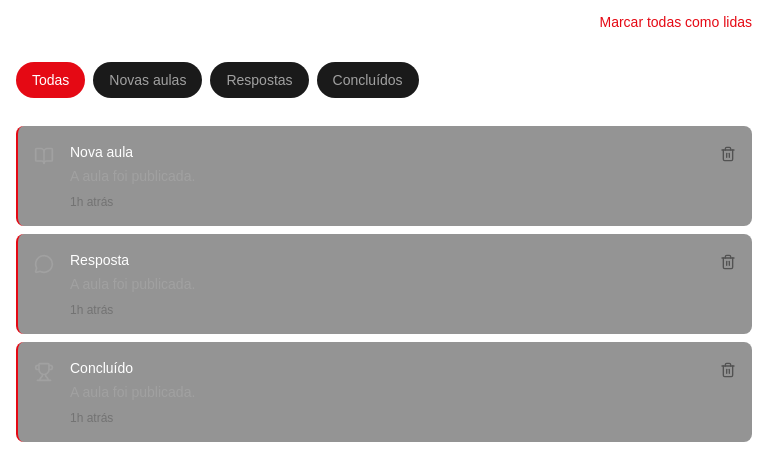
Test: NotificationsPage › filters notifications by type
Expected: the text "Nova aula" is shown, [70,144,133,160]
# Click "Respostas" filter
Step 1. Click the button "Respostas" → (260, 80), box [210,62,309,98]
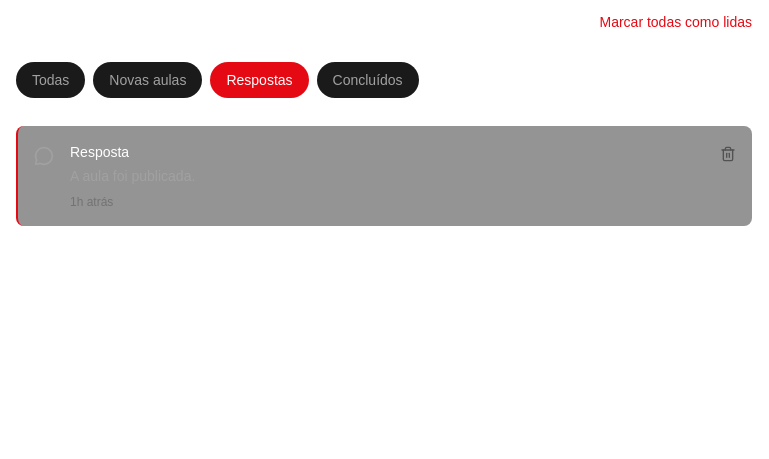
Expected: the text "Resposta" is shown, [70,144,129,160]
Now the button "Nova aula" is gone
